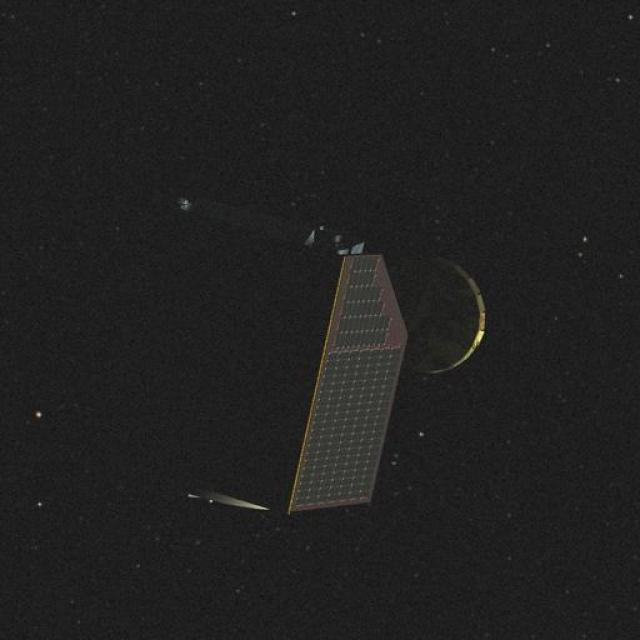cheops: (101, 224, 503, 520)
